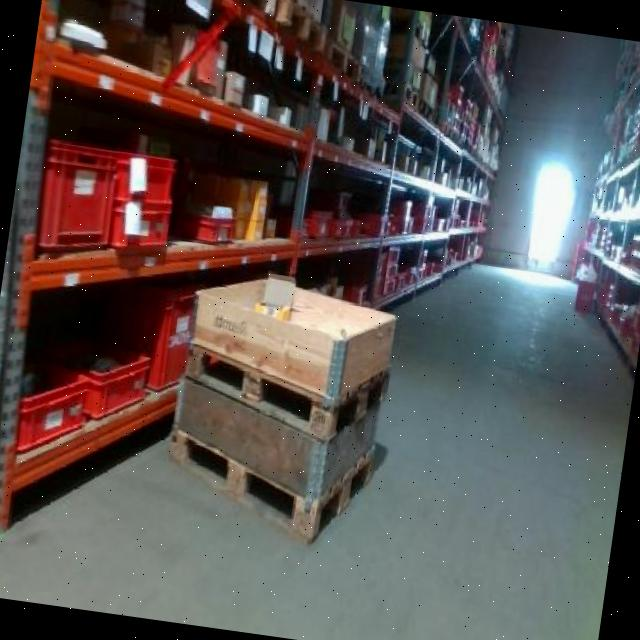pallet: (162, 405, 381, 557), (175, 328, 398, 455)
